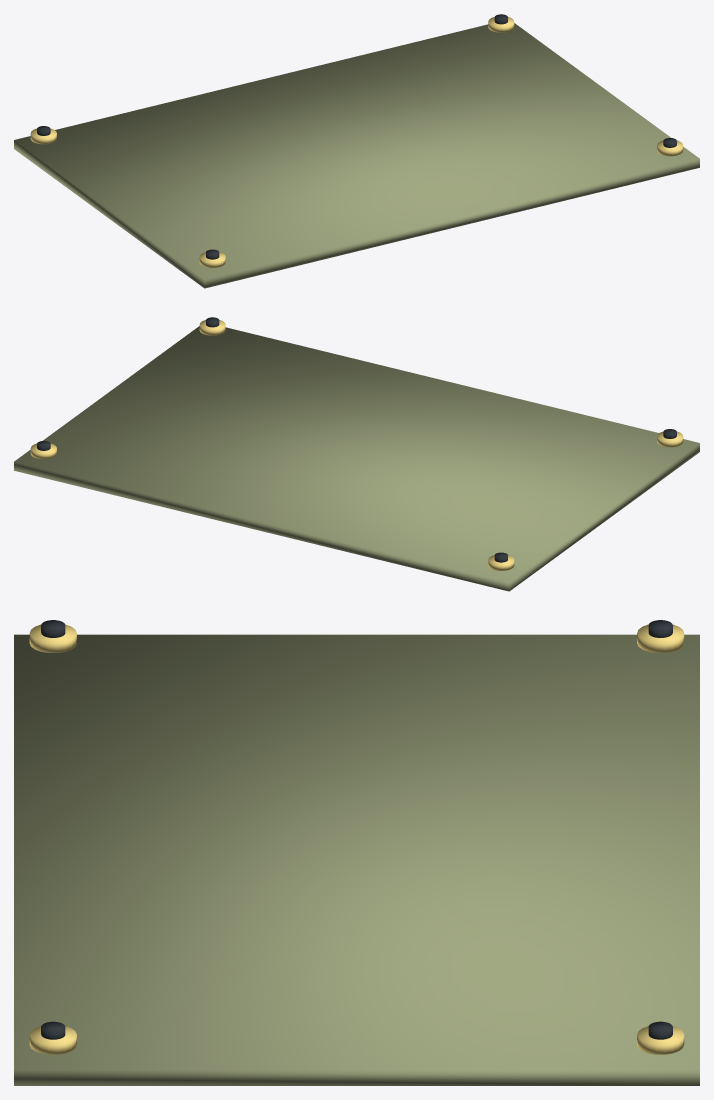
The model's file is 08_L95_FR4PrecisionBoardCore.fbx.
3 views of the same model, one above another, from view 1: azimuth 30°, elevation 25°; view 2: azimuth 150°, elevation 25°; view 3: azimuth 270°, elevation 25° (orthographic). The views are drawn at different scales.
Parts seen in each view (by area): view 1: L95_FR4PrecisionBoardCore; view 2: L95_FR4PrecisionBoardCore; view 3: L95_FR4PrecisionBoardCore.
Part boxes in pixels (x1,y1,x2,y2): L95_FR4PrecisionBoardCore: (14, 14, 699, 288); L95_FR4PrecisionBoardCore: (14, 317, 699, 591); L95_FR4PrecisionBoardCore: (14, 620, 699, 1085).
Size of the model in its own units: 1.44 by 0.0655 by 0.96.
